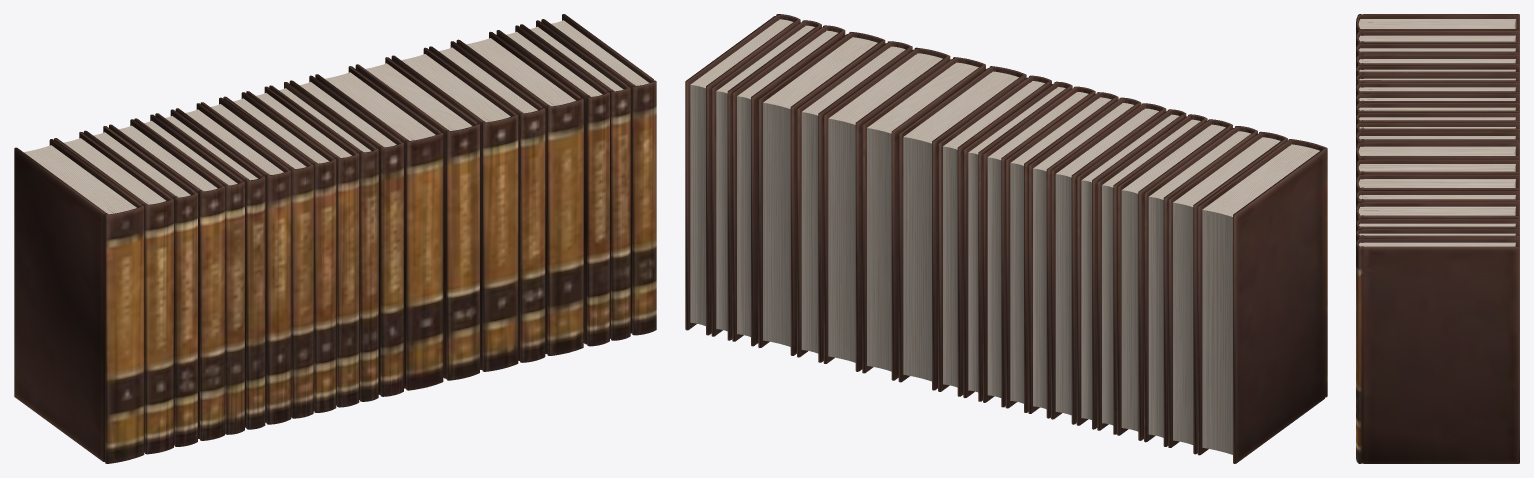
The model's file is book_encyclopedia_set_01.glb.
3 views of the same model, side by side, from view 1: azimuth 30°, elevation 25°; view 2: azimuth 150°, elevation 25°; view 3: azimuth 270°, elevation 25° (orthographic). The views are drawn at different scales.
Visible parts, largest first — view 1: book_encyclopedia_set_01_book01, book_encyclopedia_set_01_book13, book_encyclopedia_set_01_book15, book_encyclopedia_set_01_book17, book_encyclopedia_set_01_book14, book_encyclopedia_set_01_book02, book_encyclopedia_set_01_book16, book_encyclopedia_set_01_book04, book_encyclopedia_set_01_book18, book_encyclopedia_set_01_book20, book_encyclopedia_set_01_book07, book_encyclopedia_set_01_book12 (+8 smaller); view 2: book_encyclopedia_set_01_book01, book_encyclopedia_set_01_book13, book_encyclopedia_set_01_book15, book_encyclopedia_set_01_book17, book_encyclopedia_set_01_book14, book_encyclopedia_set_01_book02, book_encyclopedia_set_01_book04, book_encyclopedia_set_01_book16, book_encyclopedia_set_01_book18, book_encyclopedia_set_01_book20, book_encyclopedia_set_01_book07, book_encyclopedia_set_01_book12 (+8 smaller); view 3: book_encyclopedia_set_01_book20, book_encyclopedia_set_01_book13, book_encyclopedia_set_01_book01, book_encyclopedia_set_01_book17, book_encyclopedia_set_01_book15, book_encyclopedia_set_01_book14, book_encyclopedia_set_01_book02, book_encyclopedia_set_01_book16, book_encyclopedia_set_01_book03, book_encyclopedia_set_01_book12, book_encyclopedia_set_01_book04, book_encyclopedia_set_01_book07 (+8 smaller).
Part boxes in pixels (x1,y1,x2,y2): book_encyclopedia_set_01_book01: (14, 139, 144, 463); book_encyclopedia_set_01_book13: (315, 66, 443, 390); book_encyclopedia_set_01_book15: (391, 47, 518, 371); book_encyclopedia_set_01_book17: (456, 31, 583, 355); book_encyclopedia_set_01_book14: (355, 57, 479, 380); book_encyclopedia_set_01_book02: (54, 132, 173, 454); book_encyclopedia_set_01_book16: (429, 41, 545, 362); book_encyclopedia_set_01_book04: (109, 119, 224, 440); book_encyclopedia_set_01_book18: (496, 25, 609, 346); book_encyclopedia_set_01_book20: (541, 14, 656, 335); book_encyclopedia_set_01_book07: (175, 103, 291, 424); book_encyclopedia_set_01_book12: (289, 75, 403, 396); book_encyclopedia_set_01_book01: (1197, 139, 1327, 463); book_encyclopedia_set_01_book13: (898, 66, 1026, 390); book_encyclopedia_set_01_book15: (823, 47, 950, 371); book_encyclopedia_set_01_book17: (758, 32, 885, 355); book_encyclopedia_set_01_book14: (862, 57, 985, 380); book_encyclopedia_set_01_book02: (1168, 131, 1287, 454); book_encyclopedia_set_01_book04: (1117, 119, 1232, 440); book_encyclopedia_set_01_book16: (797, 41, 912, 362); book_encyclopedia_set_01_book18: (732, 25, 845, 346); book_encyclopedia_set_01_book20: (685, 14, 800, 335); book_encyclopedia_set_01_book07: (1051, 103, 1166, 424); book_encyclopedia_set_01_book12: (938, 75, 1051, 396); book_encyclopedia_set_01_book20: (1356, 238, 1519, 463); book_encyclopedia_set_01_book13: (1356, 142, 1519, 165); book_encyclopedia_set_01_book01: (1356, 14, 1519, 35); book_encyclopedia_set_01_book17: (1356, 202, 1519, 221); book_encyclopedia_set_01_book15: (1356, 174, 1519, 194); book_encyclopedia_set_01_book14: (1356, 159, 1519, 181); book_encyclopedia_set_01_book02: (1356, 30, 1519, 47); book_encyclopedia_set_01_book16: (1356, 190, 1519, 222); book_encyclopedia_set_01_book03: (1356, 43, 1519, 58); book_encyclopedia_set_01_book12: (1356, 131, 1519, 149); book_encyclopedia_set_01_book04: (1356, 54, 1519, 70); book_encyclopedia_set_01_book07: (1356, 82, 1519, 96).
Bounding box in the file's own units: 0.5513 × 0.2374 × 0.1631.
Materials: 2 (2 with a texture image).
